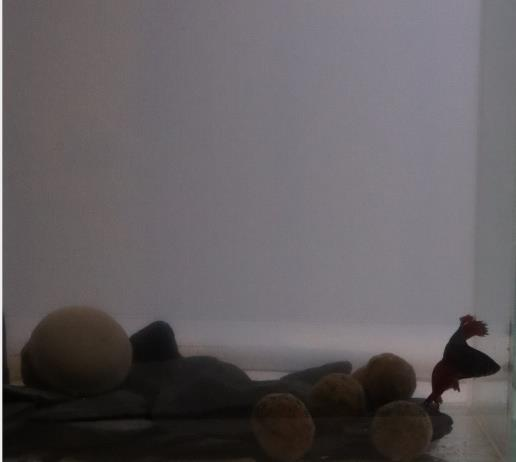fish: (427, 309, 506, 414)
